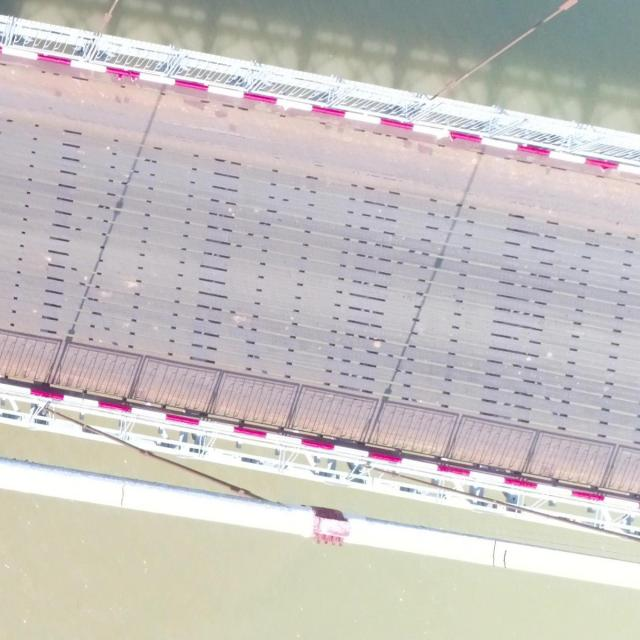crack: (491, 540, 496, 566), (121, 481, 126, 506), (502, 550, 507, 568)
